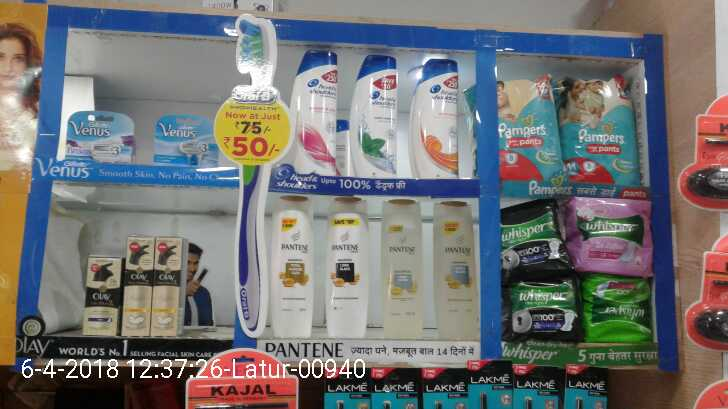venus: (65, 110, 136, 166), (155, 115, 215, 167)
